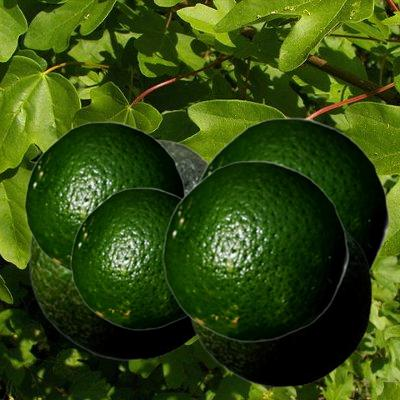calamansi: (162, 160, 348, 341), (195, 117, 389, 273), (187, 226, 371, 387), (24, 121, 186, 273), (28, 232, 196, 360), (70, 187, 187, 329), (157, 139, 208, 192)
